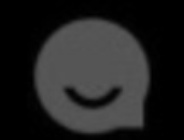ImgButton: (1, 1, 183, 139)
